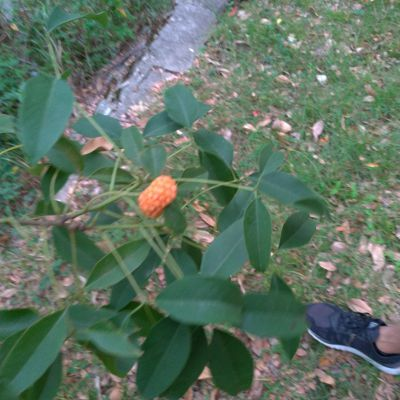eggs: (135, 174, 180, 219)
